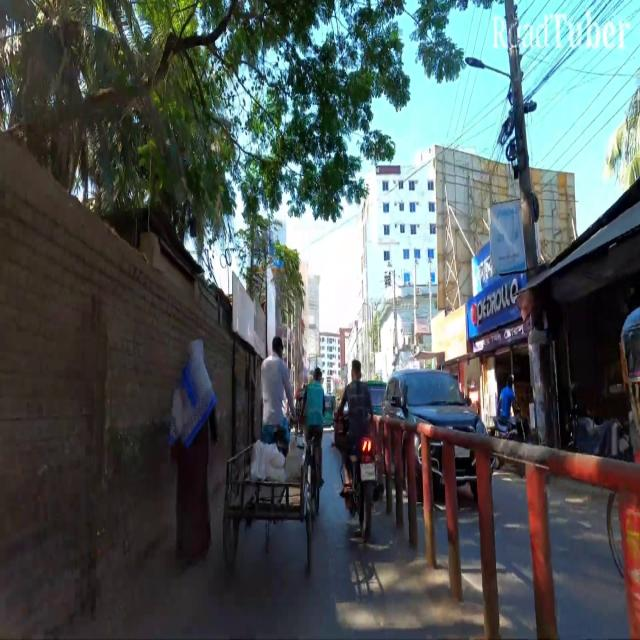black: (382, 366, 497, 495)
